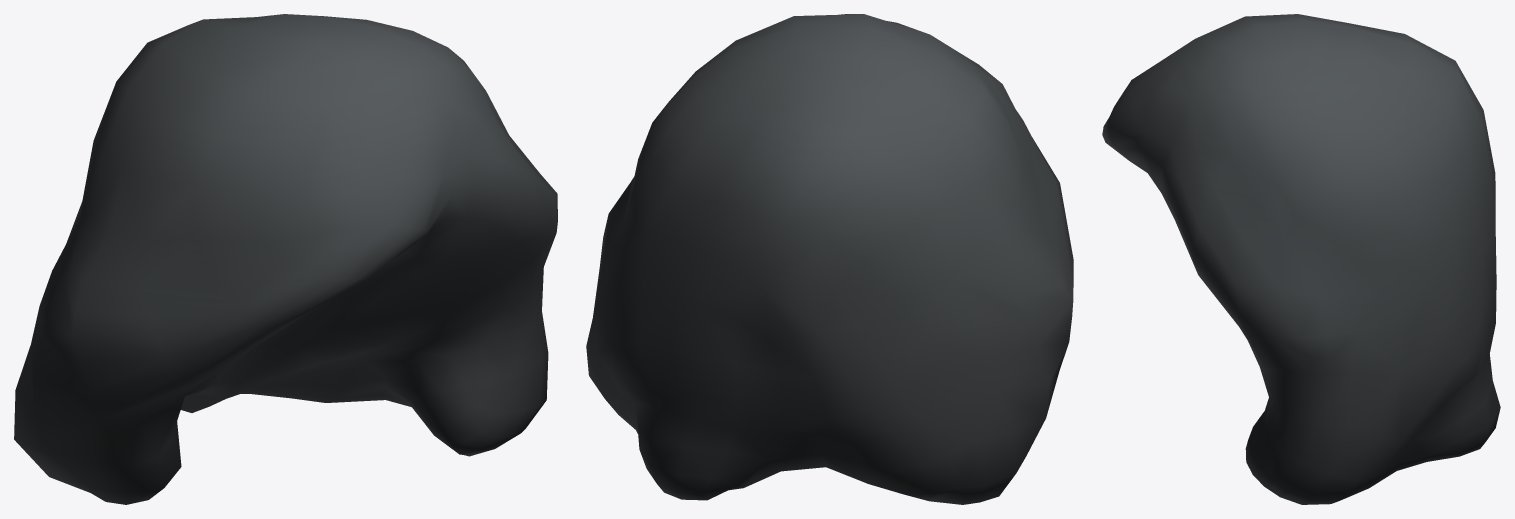
Rendered from Hairstyle_Female_04.glb.
3 views of the same model, side by side, from view 1: azimuth 30°, elevation 25°; view 2: azimuth 150°, elevation 25°; view 3: azimuth 270°, elevation 25° (orthographic). The views are drawn at different scales.
Parts seen in each view (by area): view 1: Hairstyle_Female_04; view 2: Hairstyle_Female_04; view 3: Hairstyle_Female_04.
Boxes of the visible parts, x1=… form: Hairstyle_Female_04: x1=14, y1=14, x2=557, y2=504; Hairstyle_Female_04: x1=586, y1=14, x2=1073, y2=504; Hairstyle_Female_04: x1=1102, y1=14, x2=1500, y2=504.
Bounding box in the file's own units: 0.7339 × 0.6327 × 0.5867.
1 material, 1 textured.
